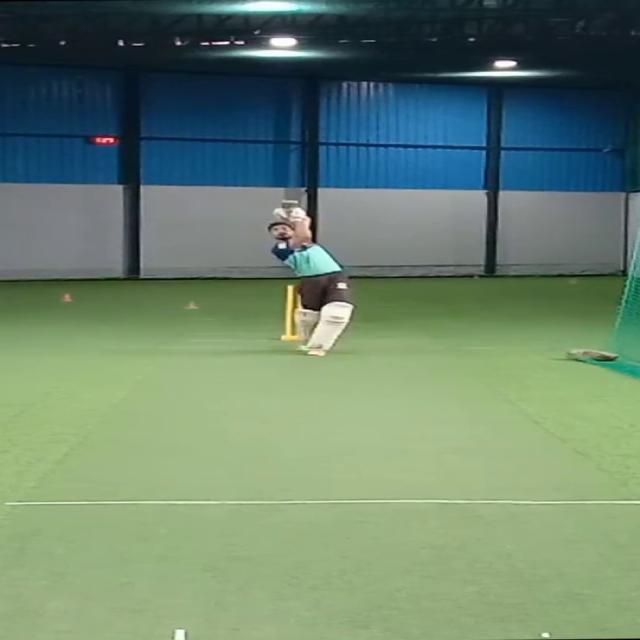stump: (272, 280, 298, 345)
